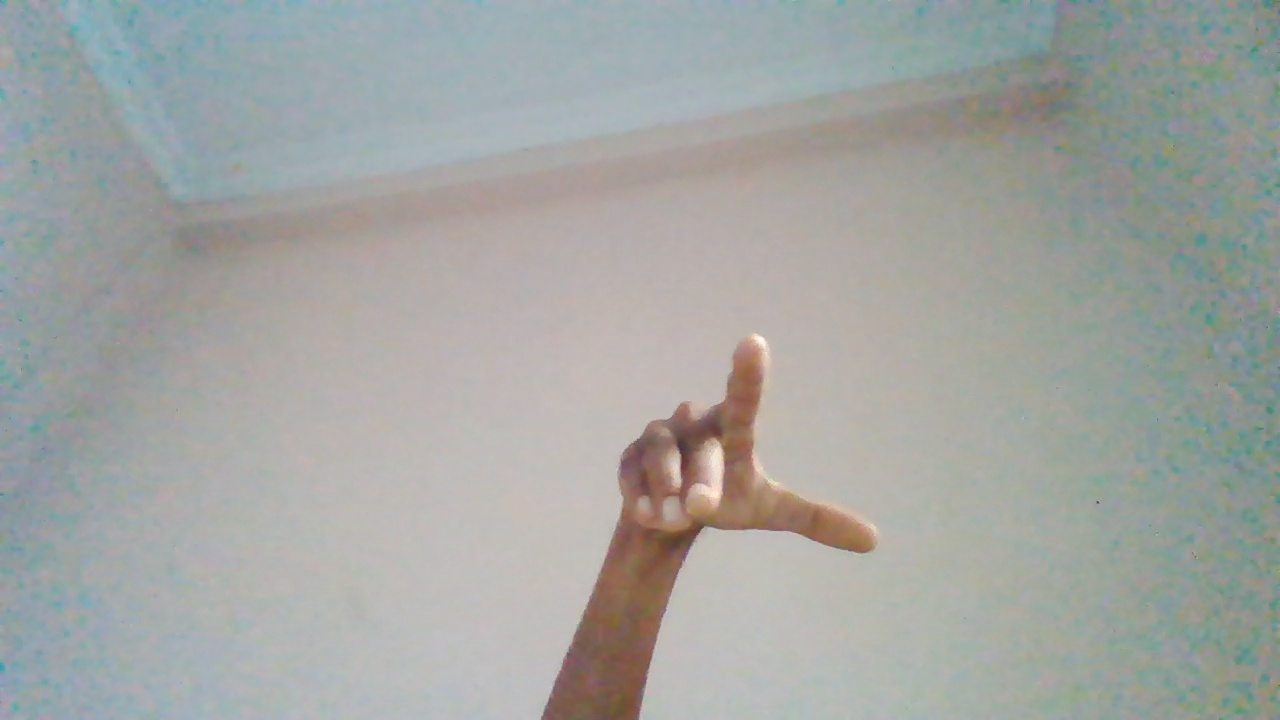ke: (597, 337, 872, 720)
